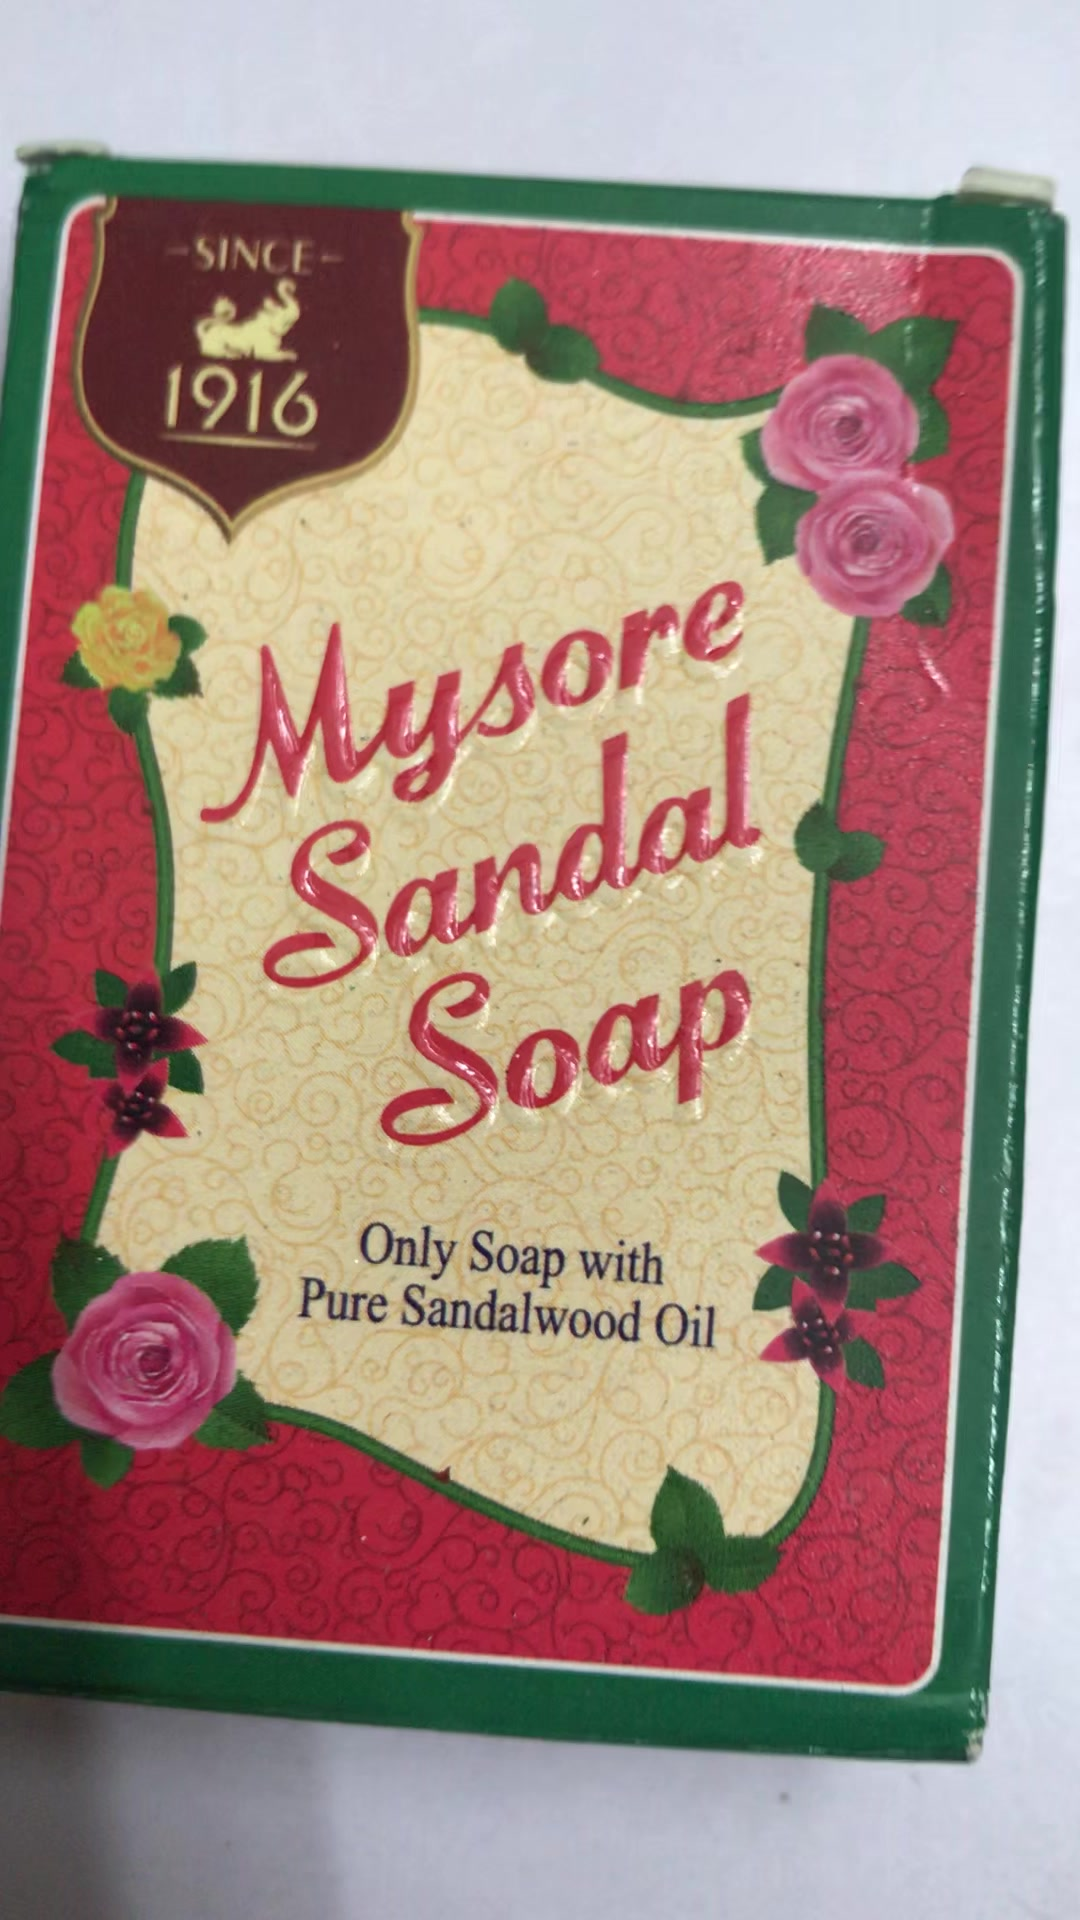mysore sandal soap: (1, 160, 1059, 1758)
